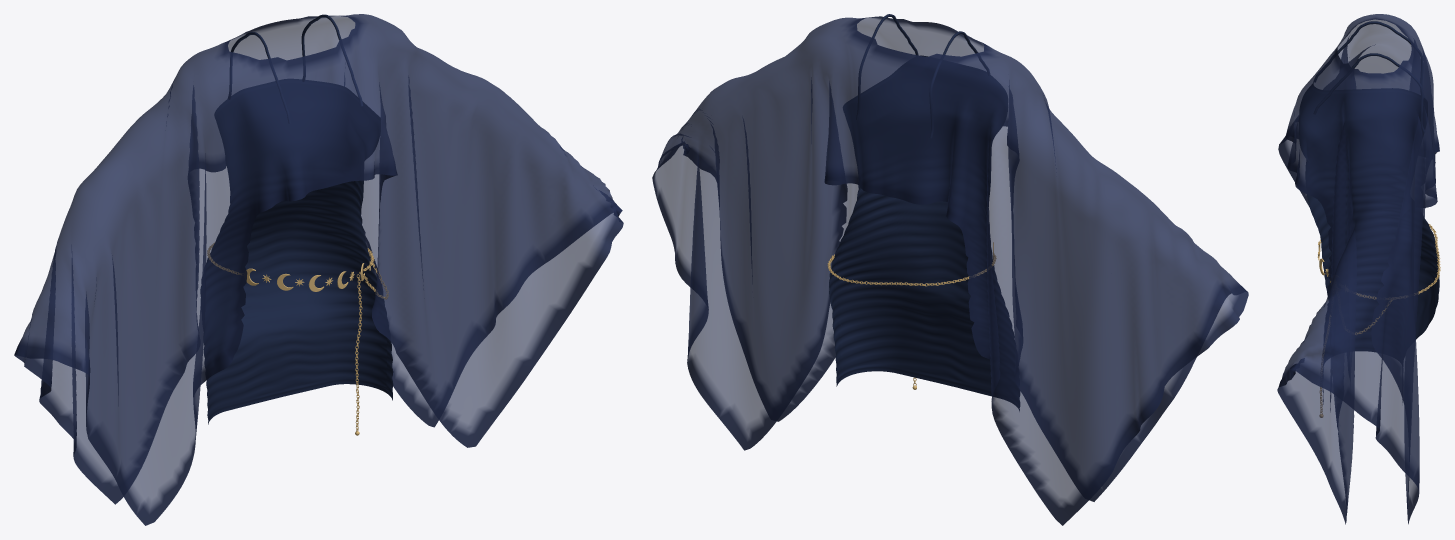
Rendered from vestido-capa-talla-L.glb.
The picture shows the model from 3 angles, left to right: view 1: azimuth 30°, elevation 25°; view 2: azimuth 150°, elevation 25°; view 3: azimuth 270°, elevation 25°; orthographic projection. The views are drawn at different scales.
Visible parts, largest first — view 1: capa-malla, vestido-tirantes, cadena-lunas; view 2: capa-malla, vestido-tirantes; view 3: capa-malla, vestido-tirantes, tirante (×2), cadena.
Part boxes in pixels (<box>): capa-malla: <box>14,14,623,525</box>; vestido-tirantes: <box>200,79,393,424</box>; cadena-lunas: <box>246,261,370,435</box>; capa-malla: <box>652,16,1248,525</box>; vestido-tirantes: <box>829,55,1019,410</box>; capa-malla: <box>1277,14,1439,524</box>; vestido-tirantes: <box>1299,82,1439,401</box>; tirante (×2): <box>1313,21,1425,132</box>; cadena: <box>1356,223,1440,299</box>.
Bounding box in the file's own units: 1.27 × 0.9268 × 0.3294.
